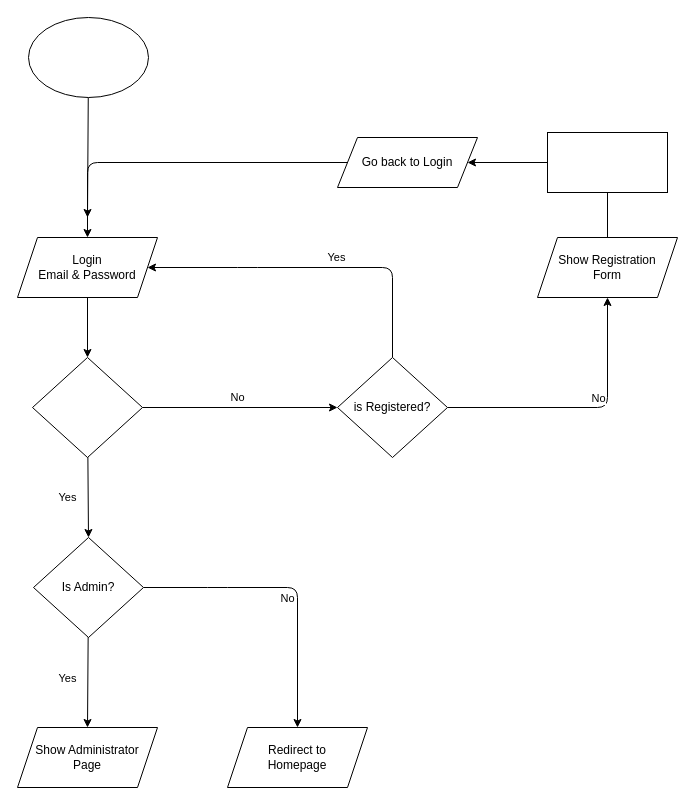
The diagram is 695 pixels wide and 805 high, and some of its shapes have lost their labels. Each missing label, with the box of its shape:
Correct Email & Password?: (32, 356, 142, 458)
Register User: (546, 132, 668, 192)
Start: (28, 16, 148, 98)
